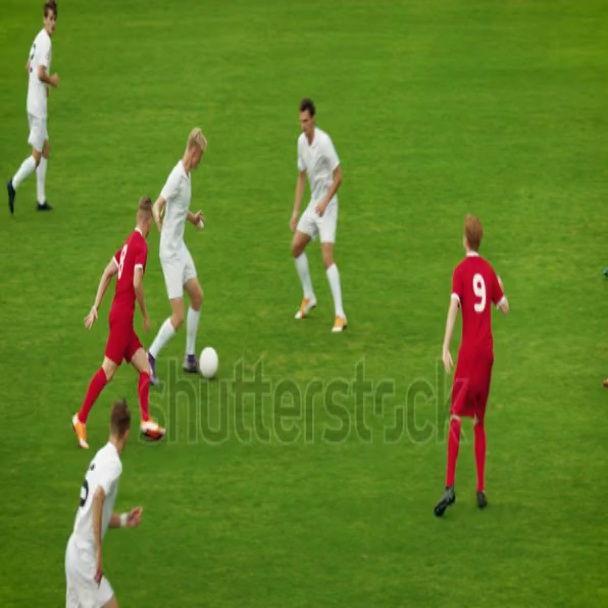ball: (193, 342, 223, 388)
